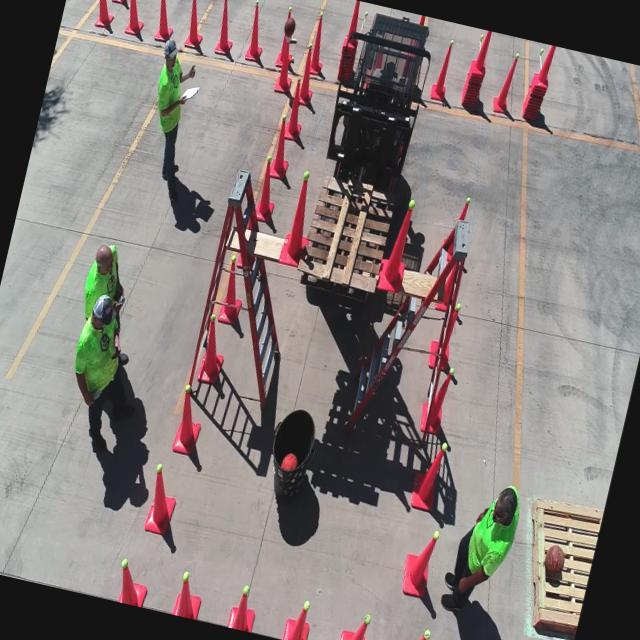forklift: (316, 5, 440, 192)
person: (438, 473, 528, 622), (134, 38, 204, 188), (60, 290, 130, 420), (86, 238, 132, 304)
